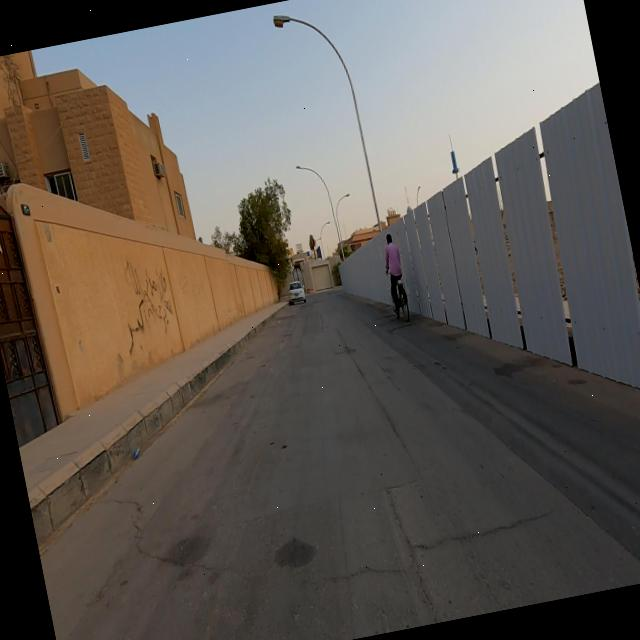Graffiti: (110, 252, 182, 356)
